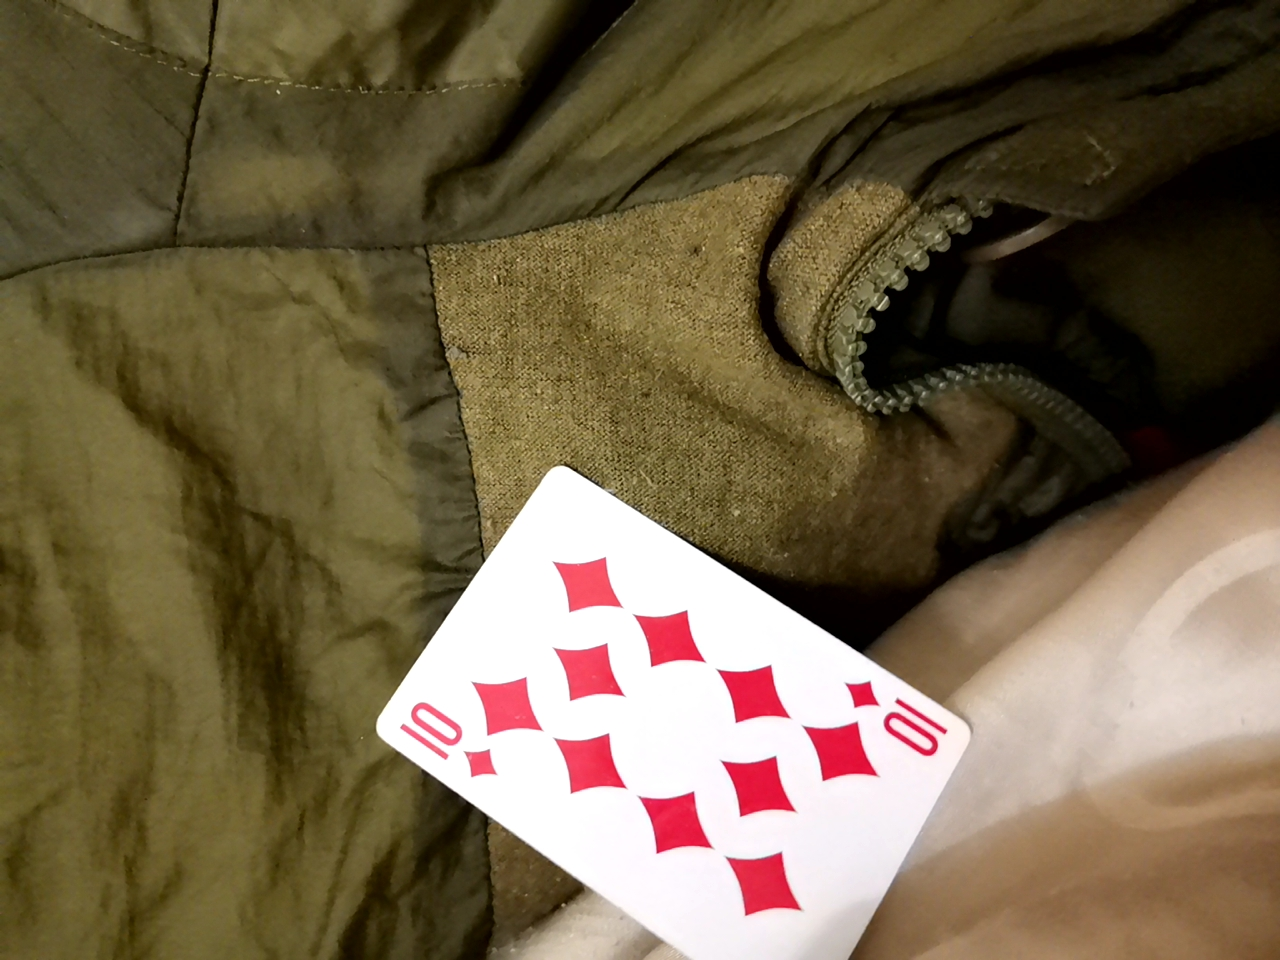fk 10: (384, 491, 958, 960)
